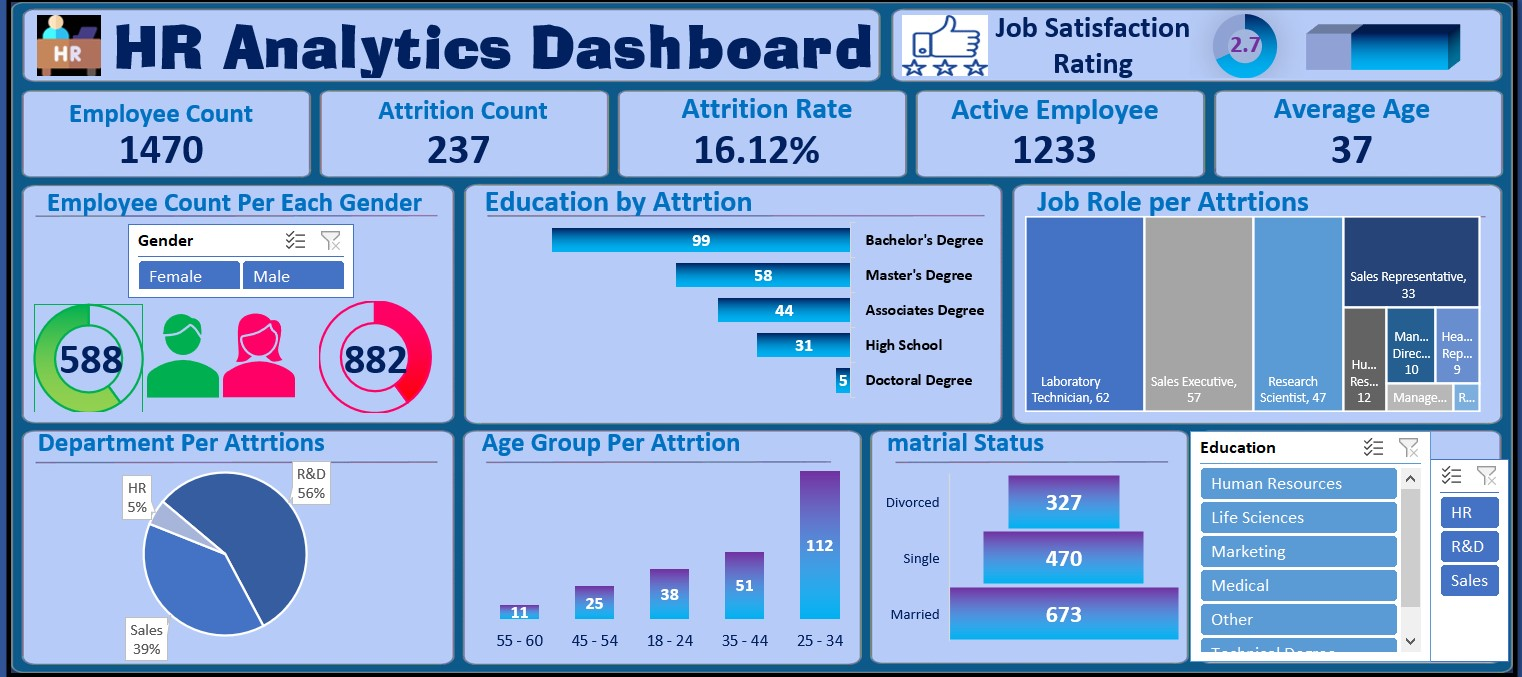

This screenshot's page, from the dashboard's own definition file:
{"tool":"tableau","page":{"name":"Dashboard 1","canvas":[1669,861],"ordinal":0},"visuals":[{"type":"image","param":"Image/HR background.jpg","box":[8,8,1653,845]},{"type":"text","box":[100,18,859,59]},{"type":"filter","title":"Department per Attrition","param":"[federated.0pwhxd303h3sfi1ah9gx11fwq4bj].[none:Education:nk]","box":[952,21,620,62]},{"type":"worksheet","title":"Attrtion by gender","mark":"Automatic","rows":["Gender"],"cols":["Calculation_881298155774873600","Calculation_881298155774873600"],"box":[1375,94,195,127]},{"type":"worksheet","title":"KPIs","mark":"Automatic","box":[97,95,1265,129]},{"type":"worksheet","title":"Employee per age","mark":"Automatic","rows":["Employee Count"],"cols":["Age (bin)"],"box":[540,234,522,346]},{"type":"worksheet","title":"Job Satisfaction Rating","mark":"Square","rows":["Job Role"],"cols":["Job Satisfaction"],"box":[1078,235,491,346]},{"type":"worksheet","title":"Department per Attrition","mark":"Pie","box":[98,237,431,346]},{"type":"parameter","param":"[Parameters].[Parameter 1]","box":[832,246,221,40]},{"type":"legend","title":"Department per Attrition","param":"[federated.0pwhxd303h3sfi1ah9gx11fwq4bj].[none:Department:nk]","box":[103,482,93,85]},{"type":"worksheet","title":"Eduction Per Attrtion","mark":"Automatic","rows":["Education Field"],"cols":["Calculation_881298155774873600"],"box":[97,595,412,249]},{"type":"worksheet","title":"Attrition Rate per Gender for different ages","mark":"Pie","rows":["Calculation_881298155884138501","Calculation_881298155884138501"],"cols":["CF_age band"],"box":[519,595,1053,248]},{"type":"legend","title":"Attrition Rate per Gender for different ages","param":"[federated.0pwhxd303h3sfi1ah9gx11fwq4bj].[none:Gender:nk]","box":[1205,597,295,45]}]}

Visuals, with their boxes on the page's 1669x861 design canvas (x1, y1, x2, y2). These are canvas units, not pixel positions in the 1522x677 screenshot, which may show the page scaled, cropped or inside an application window:
image: [x1=8, y1=8, x2=1661, y2=853]
text: [x1=100, y1=18, x2=959, y2=77]
"Department per Attrition" filter: [x1=952, y1=21, x2=1572, y2=83]
"Attrtion by gender" worksheet: [x1=1375, y1=94, x2=1570, y2=221]
"KPIs" worksheet: [x1=97, y1=95, x2=1362, y2=224]
"Employee per age" worksheet: [x1=540, y1=234, x2=1062, y2=580]
"Job Satisfaction Rating" worksheet (Square marks): [x1=1078, y1=235, x2=1569, y2=581]
"Department per Attrition" worksheet (Pie marks): [x1=98, y1=237, x2=529, y2=583]
parameter: [x1=832, y1=246, x2=1053, y2=286]
"Department per Attrition" legend: [x1=103, y1=482, x2=196, y2=567]
"Eduction Per Attrtion" worksheet: [x1=97, y1=595, x2=509, y2=844]
"Attrition Rate per Gender for different ages" worksheet (Pie marks): [x1=519, y1=595, x2=1572, y2=843]
"Attrition Rate per Gender for different ages" legend: [x1=1205, y1=597, x2=1500, y2=642]
